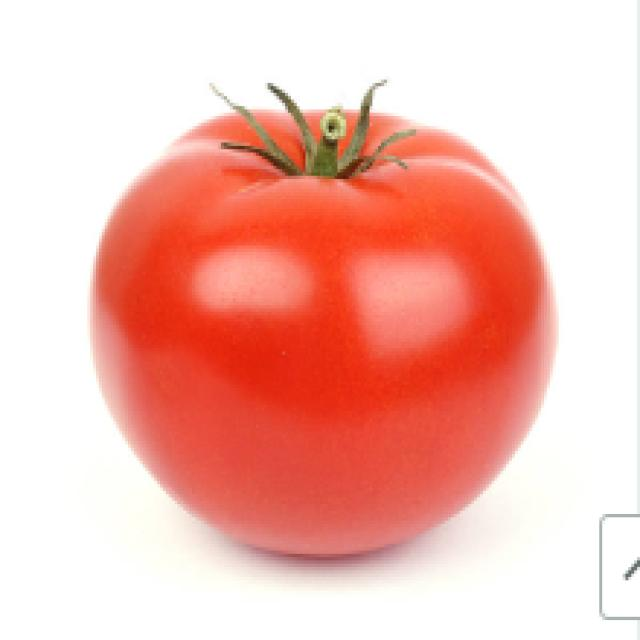Tomato: (88, 93, 556, 590)
